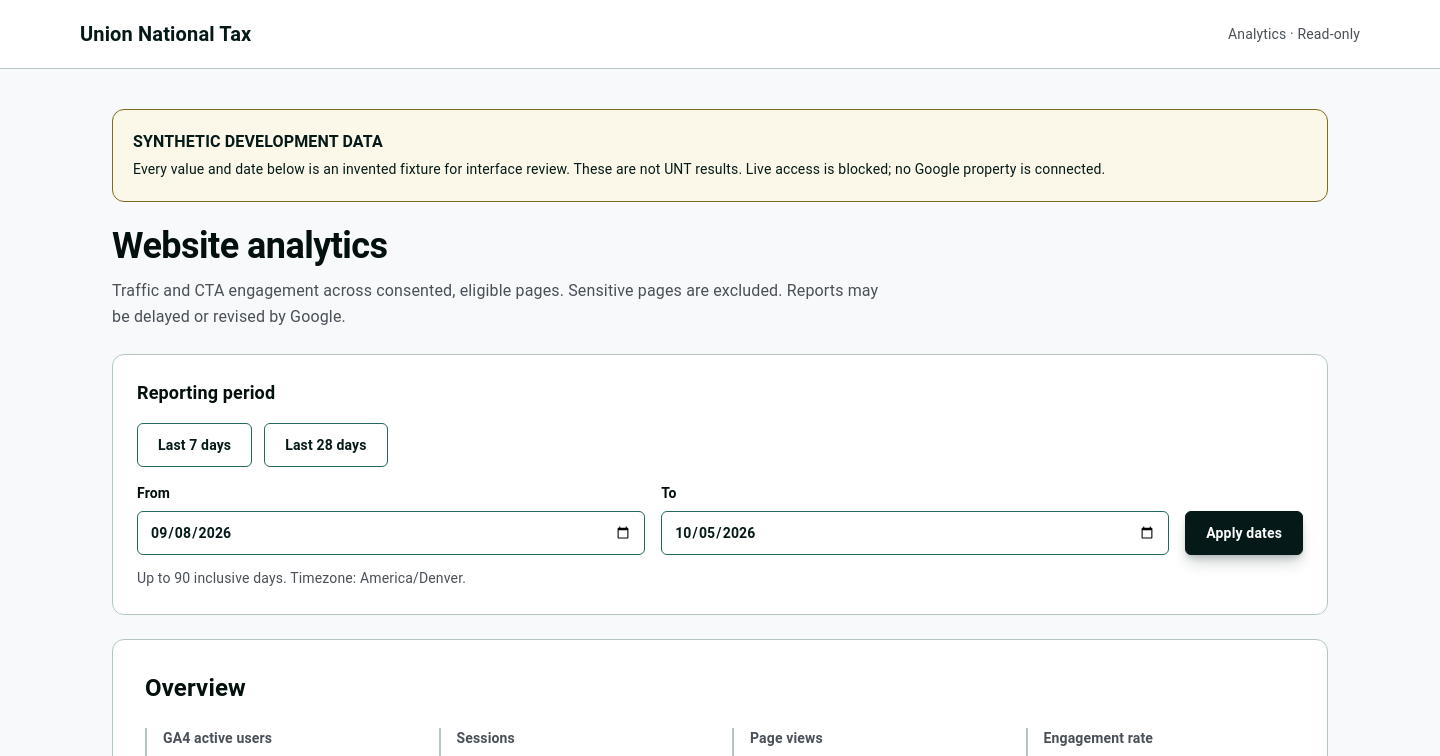
AnalyticsDashboard › submits bounded dates and presets without fetching or changing the property
The width and height of the screenshot is (1440, 756).
Click the button "Last 7 days" at (195, 445), box [137,423,252,467]
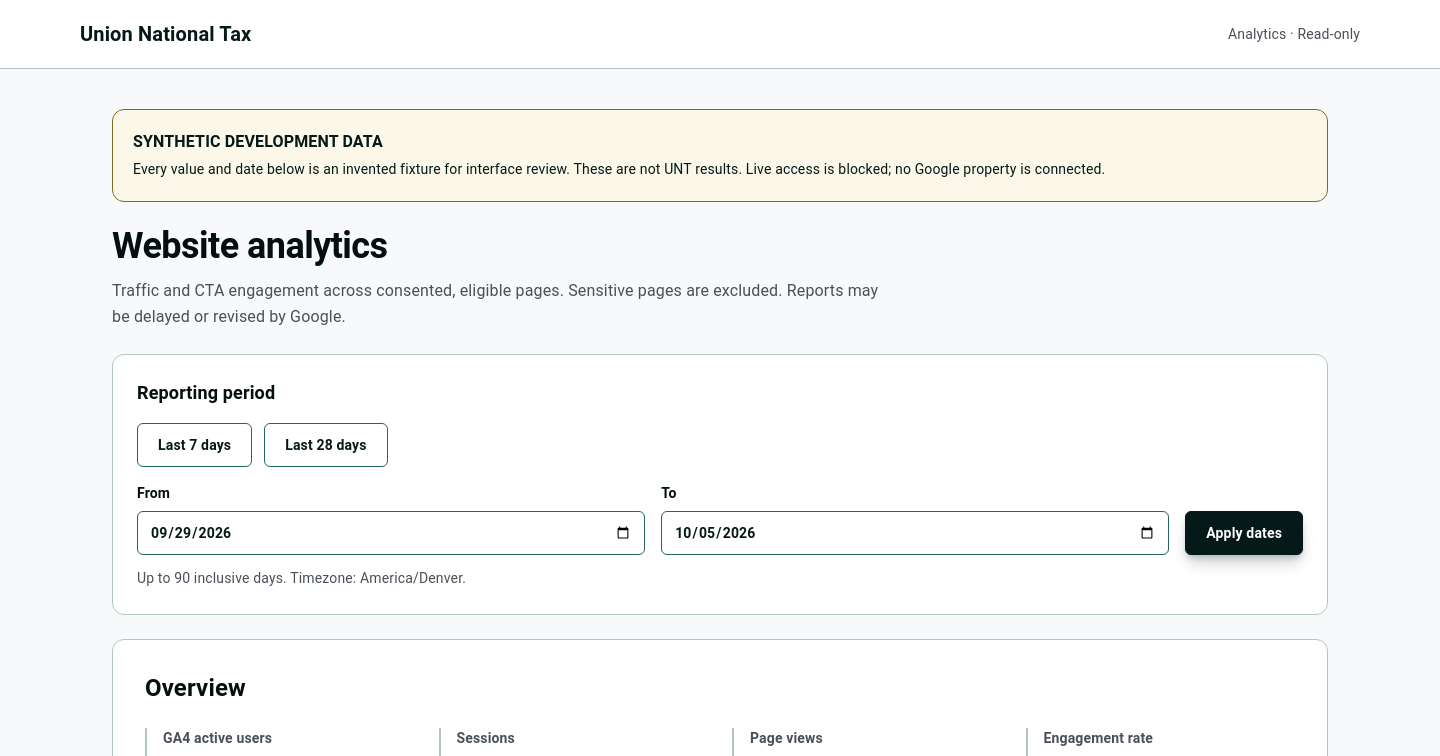
Type "2026-01-01" into the date field labelled "From" at (391, 533), box [137,511,645,555]
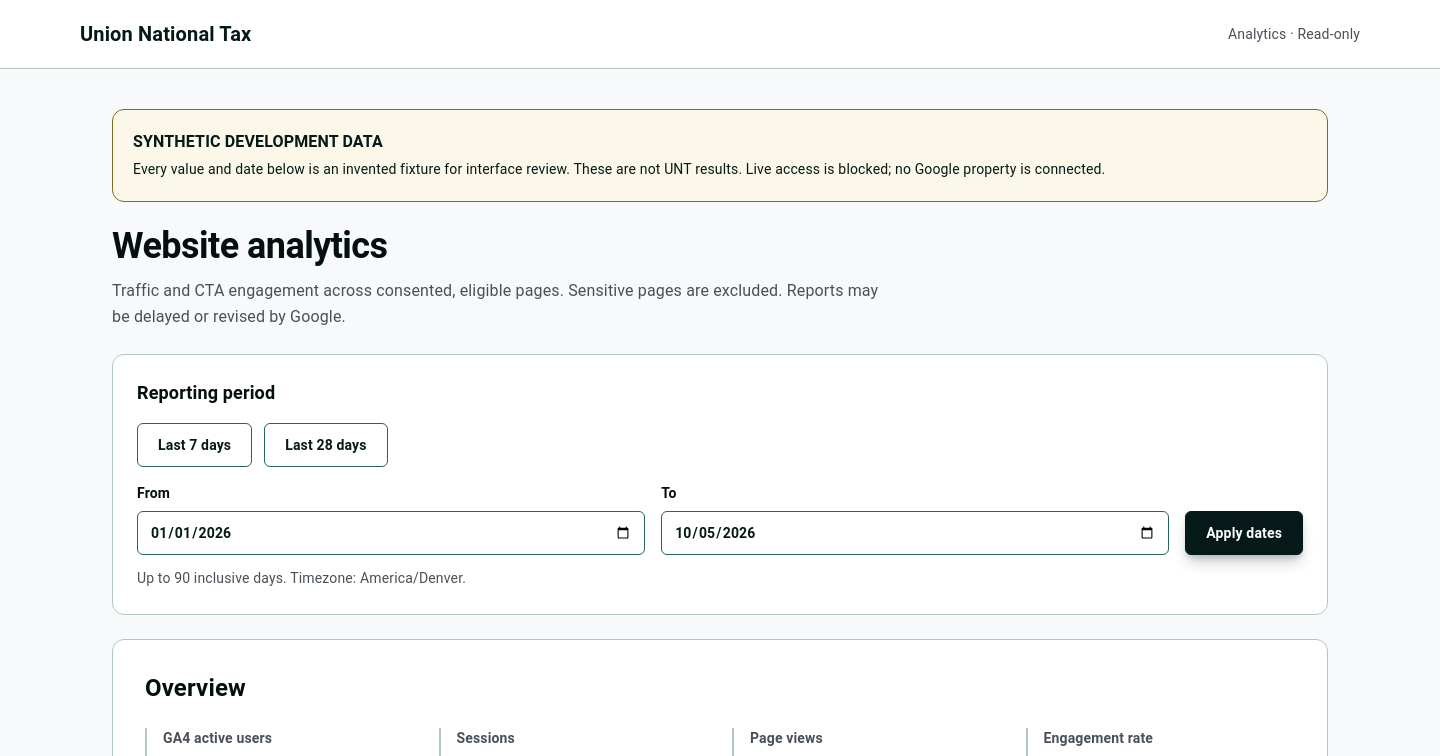
Click the button "Apply dates" at (1244, 533), box [1185,511,1303,555]
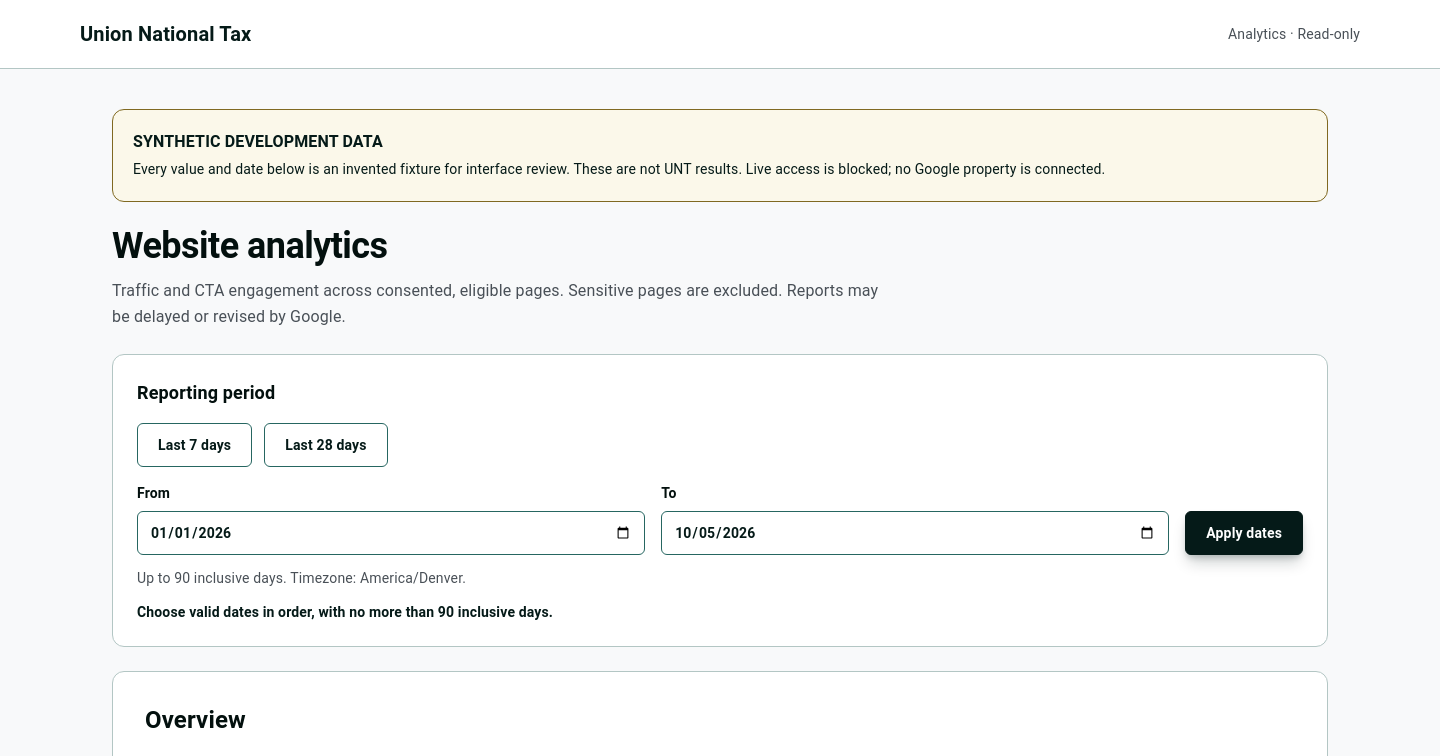
expect the message shows "no more than 90 inclusive days": met, box [137,604,553,620]
